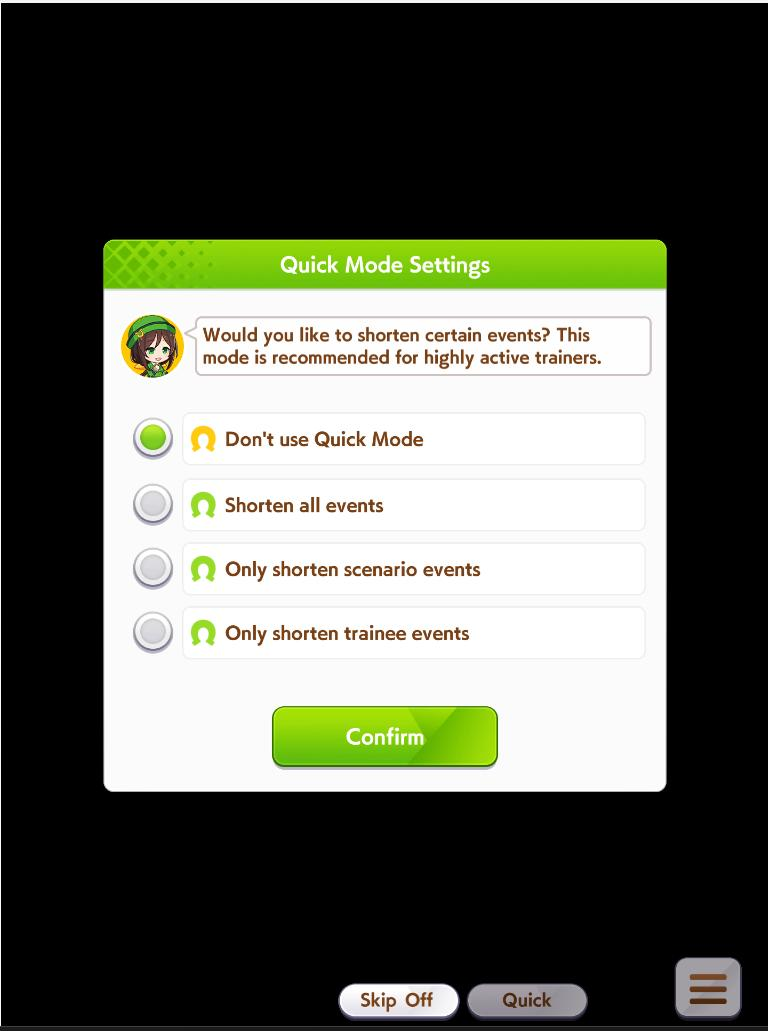confirm: (264, 703, 503, 771)
